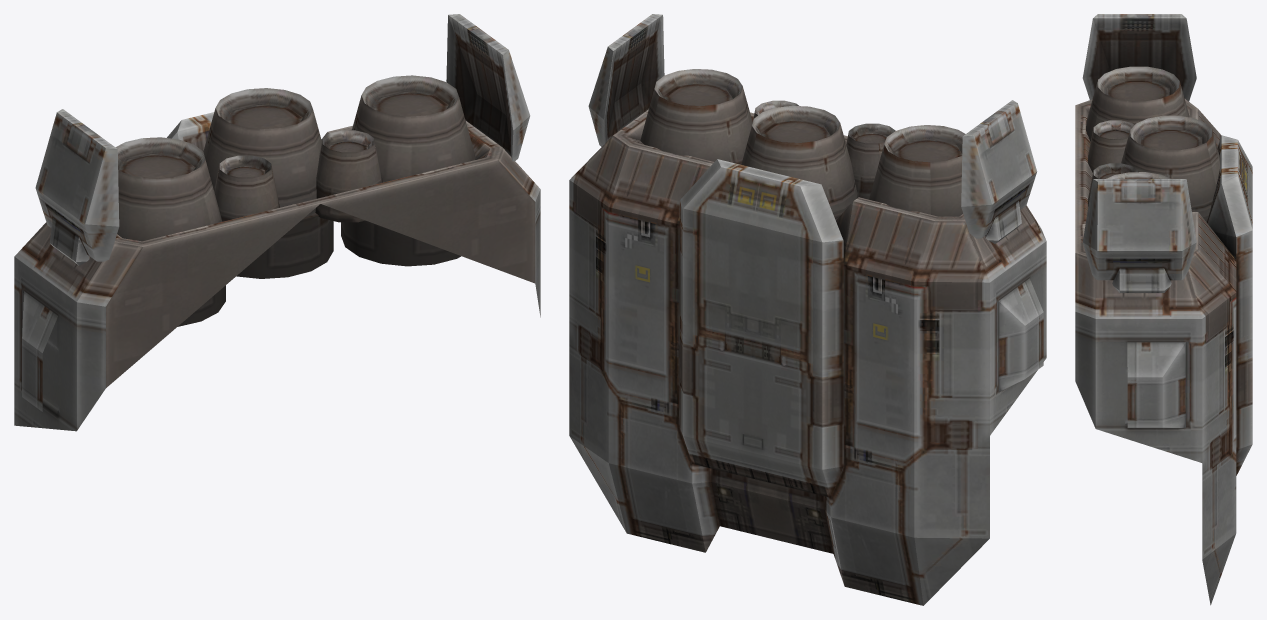
File: hgn_fs_explorer_03_engine_l.glb
3 views of the same model, side by side, from view 1: azimuth 30°, elevation 25°; view 2: azimuth 150°, elevation 25°; view 3: azimuth 270°, elevation 25° (orthographic). The views are drawn at different scales.
Visible parts, largest first — view 1: hgn_fs_explorer_03_engine_l; view 2: hgn_fs_explorer_03_engine_l; view 3: hgn_fs_explorer_03_engine_l.
Part boxes in pixels (<box>): hgn_fs_explorer_03_engine_l: <box>14,14,540,431</box>; hgn_fs_explorer_03_engine_l: <box>569,14,1046,605</box>; hgn_fs_explorer_03_engine_l: <box>1075,14,1252,605</box>.
Size of the model in its own units: 2.52 by 2.51 by 0.9162.
Materials: 1 (1 with a texture image).
